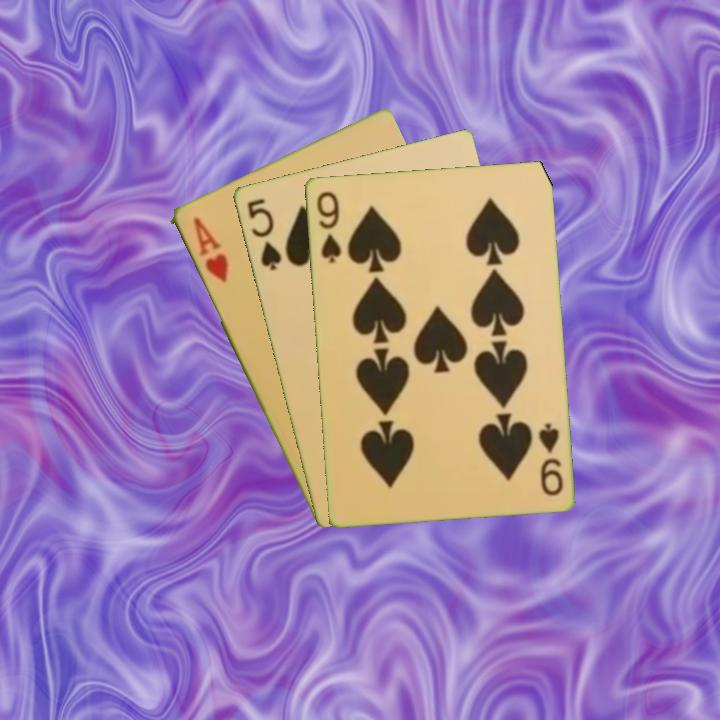5s: (243, 194, 284, 273)
9s: (534, 419, 565, 499), (313, 187, 344, 265)
Ah: (189, 213, 231, 285)
